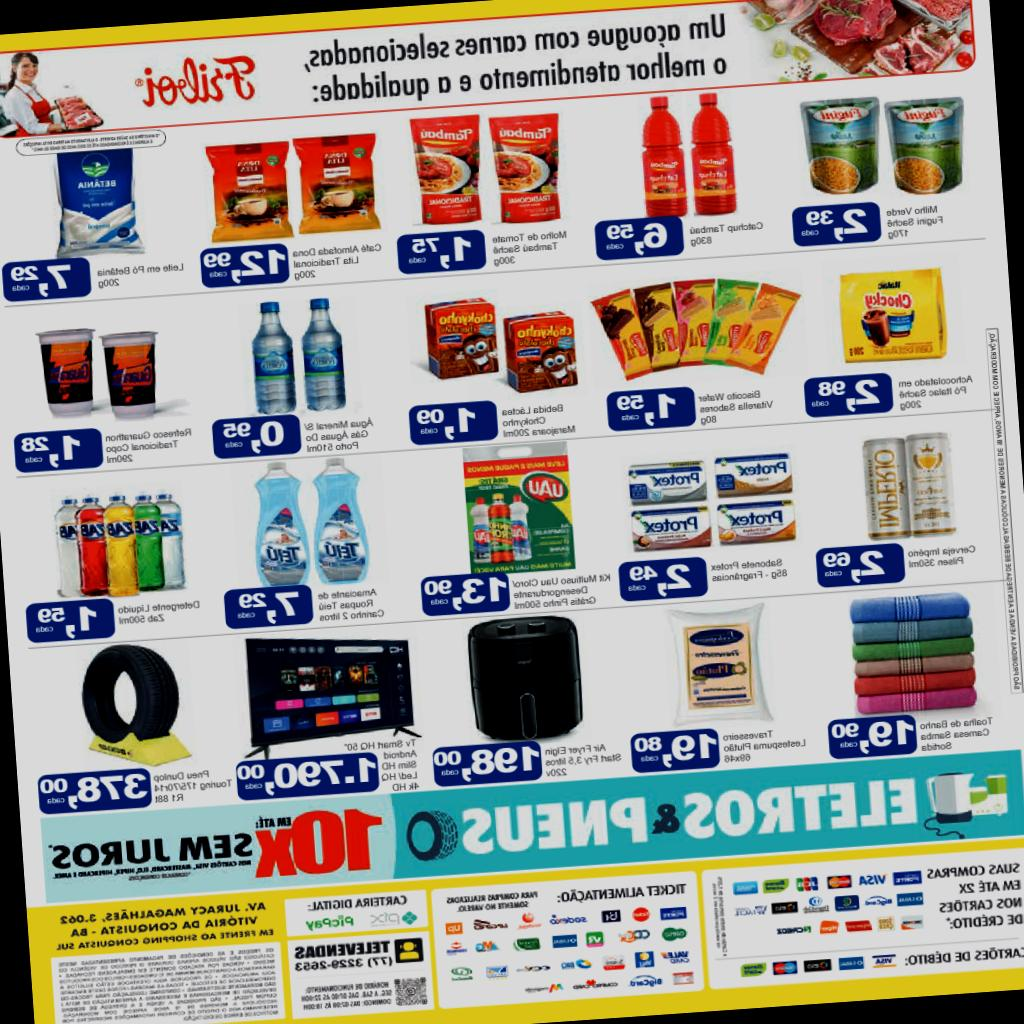price: (235, 756, 378, 798), (434, 742, 542, 785), (39, 770, 148, 811), (632, 730, 718, 772), (202, 247, 289, 287), (422, 574, 509, 614), (828, 718, 916, 756), (809, 376, 884, 418), (621, 562, 699, 600), (404, 232, 477, 272), (798, 206, 872, 244), (230, 588, 304, 626), (820, 546, 890, 586), (599, 220, 668, 260), (30, 604, 102, 642), (613, 390, 681, 430), (18, 432, 86, 472), (218, 418, 288, 456), (8, 261, 76, 300), (414, 404, 480, 444)
product_text: (509, 571, 614, 612), (104, 424, 196, 468), (290, 240, 384, 282), (722, 724, 810, 766), (92, 257, 189, 295), (151, 766, 235, 808), (498, 398, 580, 440), (918, 712, 998, 755), (490, 228, 574, 268), (896, 370, 976, 412), (543, 740, 625, 780), (696, 385, 775, 426), (302, 414, 377, 456), (315, 585, 389, 625), (884, 200, 950, 244), (116, 597, 204, 628), (685, 216, 764, 250), (709, 554, 790, 587), (378, 736, 422, 794), (905, 542, 979, 572)
